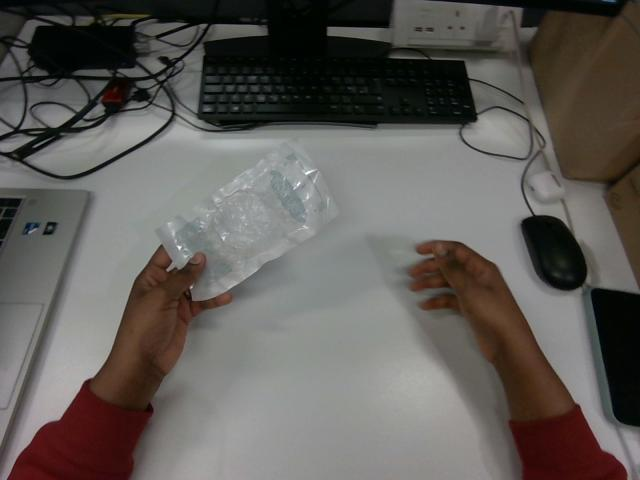gallipot: (156, 141, 337, 299)
